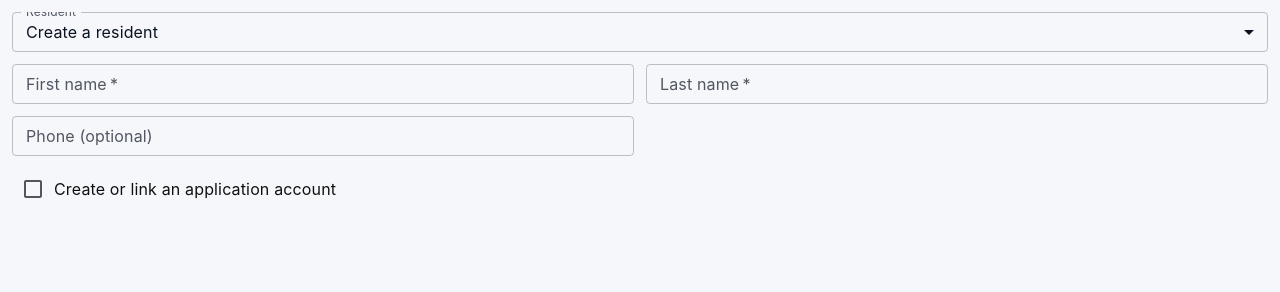
Test: shows invalid invite emails after blur and clears the error on correction
Click the checkbox labelled "Create or link an application account": (179, 189) [21,177,336,201]
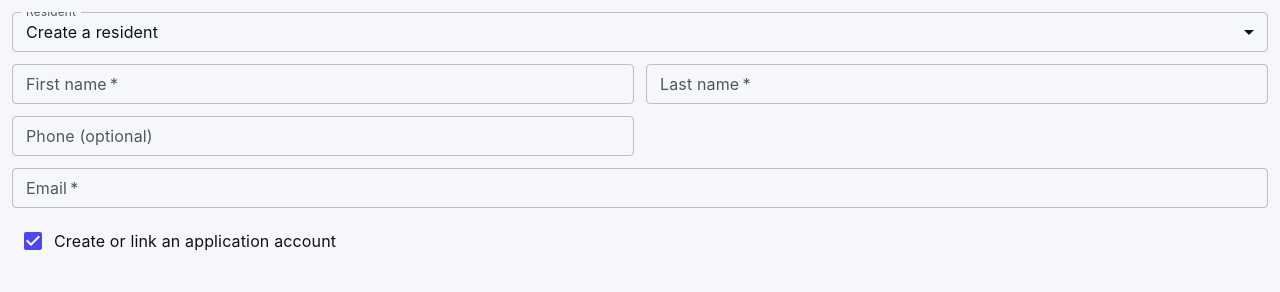
In the field labelled "Email *": (640, 188) [12,168,1268,208], type "invalid"
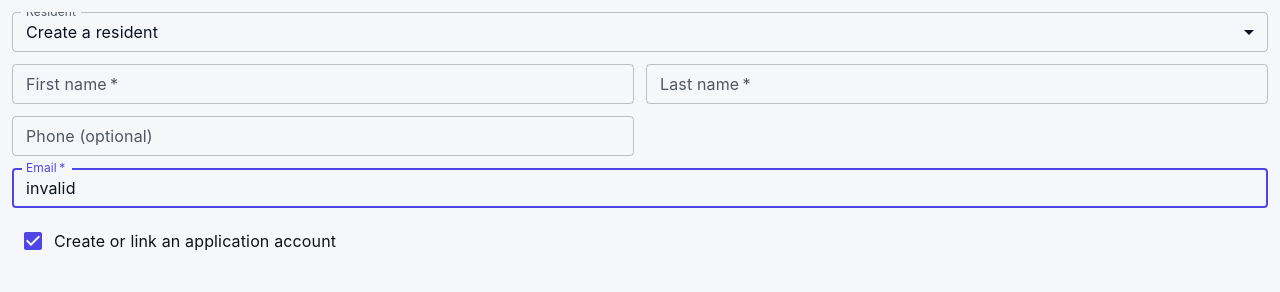
Expected: the text "Enter a valid email address for the account invitation." is not shown
Press Tab
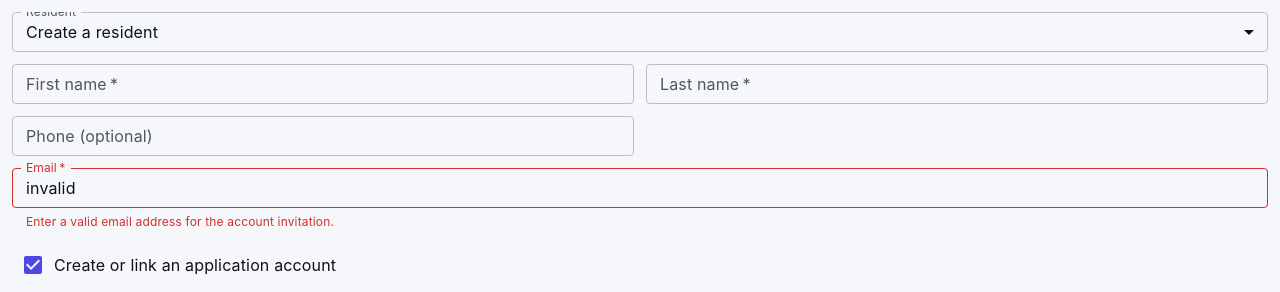
Expected: the text "Enter a valid email address for the account invitation." is shown, [26,214,334,229]
Replace the text in the field labelled "Email *" with "ana@example.test": (640, 188) [12,168,1268,208]
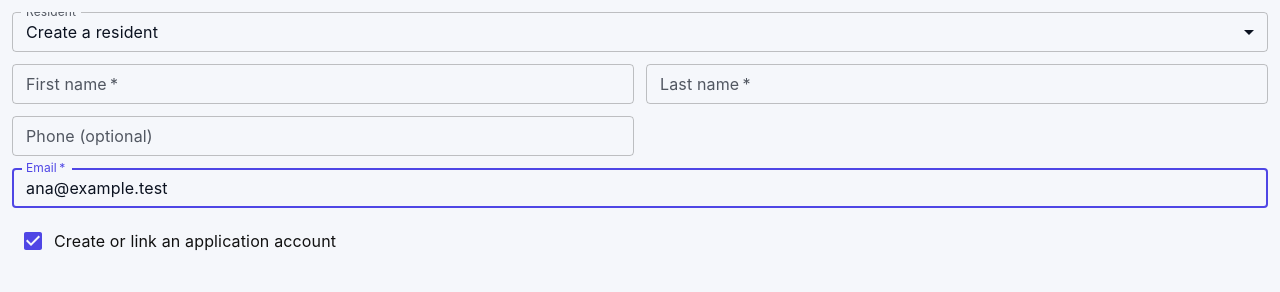
Expected: the text "Enter a valid email address for the account invitation." is gone
